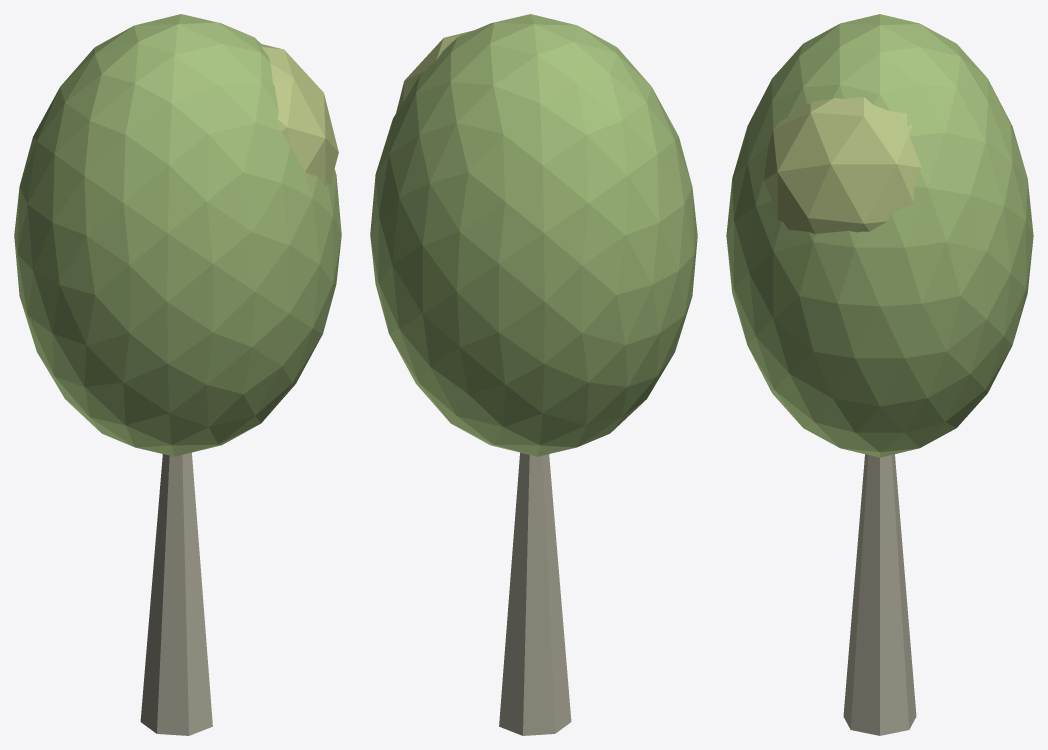
The model's file is birch.glb.
The picture shows the model from 3 angles, left to right: view 1: azimuth 30°, elevation 25°; view 2: azimuth 150°, elevation 25°; view 3: azimuth 270°, elevation 25°; orthographic projection.
Visible parts, largest first — view 1: birch; view 2: birch; view 3: birch.
Part boxes in pixels (box(x1,y1,x2,y2)): birch: box(14, 14, 341, 735); birch: box(370, 14, 697, 735); birch: box(726, 14, 1033, 735).
Bounding box in the file's own units: 2.5 × 5.74 × 2.3.
